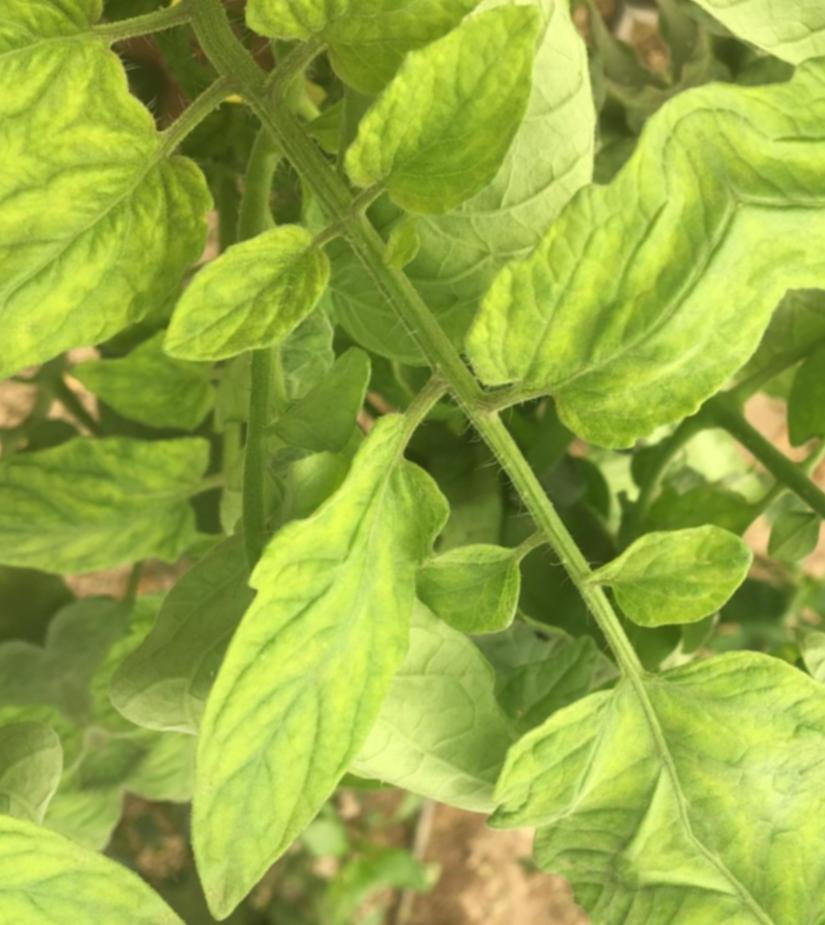Tomato leaf yellow virus: (66, 441, 562, 915), (412, 54, 821, 484), (449, 570, 825, 921), (263, 0, 674, 316), (0, 65, 291, 466)
